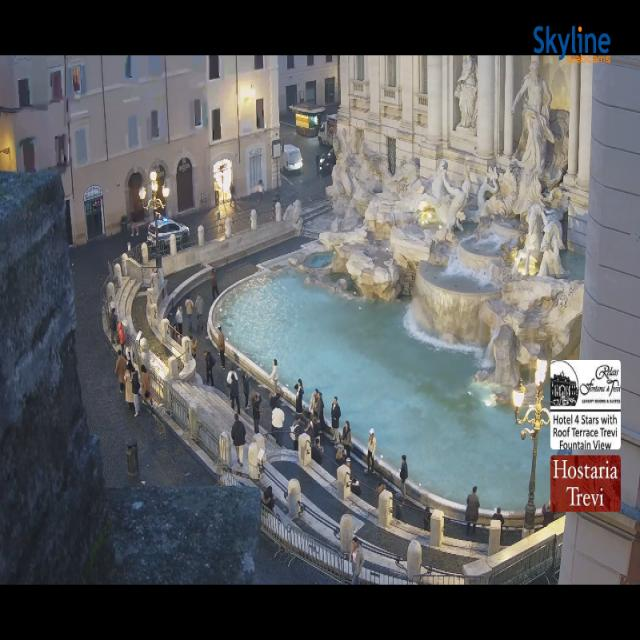person: (232, 413, 245, 465), (465, 486, 479, 534), (346, 458, 361, 497), (351, 537, 363, 584), (115, 350, 127, 392), (228, 370, 240, 411), (140, 365, 152, 405), (272, 406, 284, 445), (291, 417, 304, 450), (492, 508, 504, 543), (252, 392, 262, 434), (316, 392, 326, 431), (367, 429, 376, 472), (332, 397, 340, 443), (132, 371, 140, 417), (124, 369, 133, 408), (341, 422, 351, 457), (205, 351, 215, 385), (542, 502, 555, 527), (262, 486, 275, 511), (218, 325, 225, 369), (400, 455, 407, 499), (185, 298, 194, 332), (312, 438, 323, 465), (295, 379, 303, 415), (270, 359, 278, 394), (243, 372, 250, 410), (176, 306, 183, 343), (196, 295, 203, 332), (118, 323, 126, 355), (310, 389, 319, 417), (110, 308, 117, 344), (212, 269, 219, 301), (393, 500, 403, 522), (269, 391, 279, 410), (172, 323, 181, 344), (306, 422, 315, 442), (424, 506, 431, 531), (336, 445, 345, 464), (376, 483, 387, 498), (190, 336, 197, 358), (258, 179, 263, 202), (230, 183, 235, 203), (316, 152, 319, 176)
